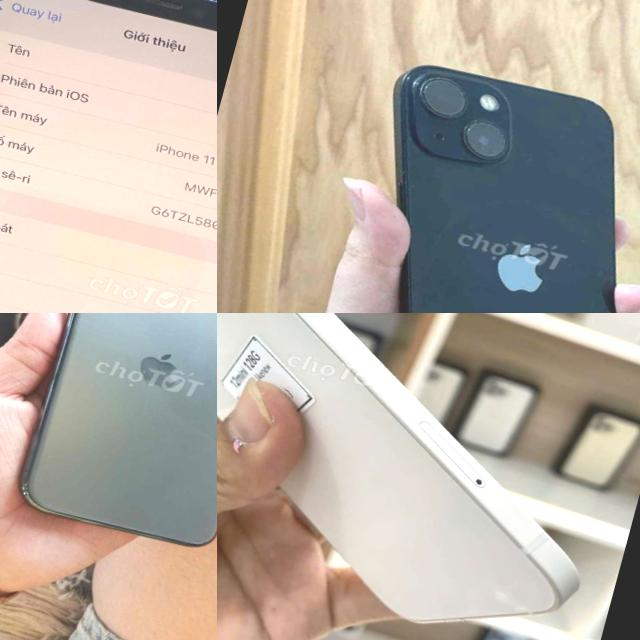scratch: (99, 0, 217, 41)
